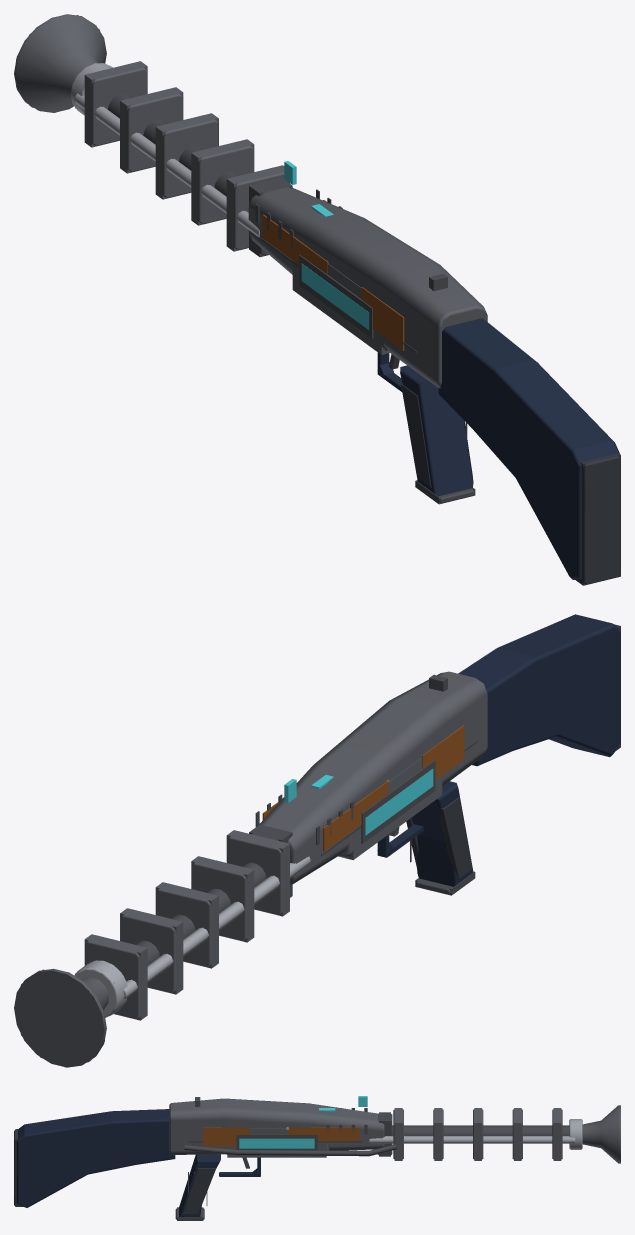
Rendered from e_prifle.glb.
3 views of the same model, one above another, from view 1: azimuth 30°, elevation 25°; view 2: azimuth 150°, elevation 25°; view 3: azimuth 270°, elevation 25° (orthographic). The views are drawn at different scales.
Parts seen in each view (by area): view 1: L0, L1; view 2: L0, L1; view 3: L0, L1.
Part boxes in pixels (left/top/right/bottom): L0: left=14, top=14, right=620, bottom=584; L1: left=16, top=15, right=620, bottom=585; L0: left=14, top=614, right=620, bottom=1067; L1: left=14, top=625, right=620, bottom=1067; L0: left=14, top=1096, right=620, bottom=1219; L1: left=15, top=1106, right=620, bottom=1220.
Bounding box in the file's own units: 0.0882 × 0.1989 × 0.9178.
